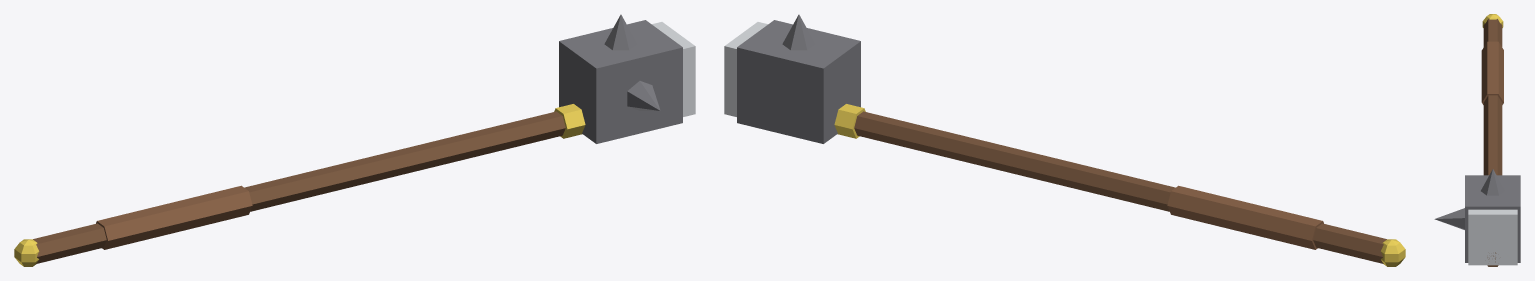
Rendered from long_warhammer.glb.
3 renders of one model, left to right at view 1: azimuth 30°, elevation 25°; view 2: azimuth 150°, elevation 25°; view 3: azimuth 270°, elevation 25°, orthographic. The views are drawn at different scales.
Parts seen in each view (by area): view 1: long_warhammer; view 2: long_warhammer; view 3: long_warhammer.
Boxes of the visible parts, x1,y1,x2,y2 form: long_warhammer: (14, 14, 695, 266); long_warhammer: (724, 14, 1405, 266); long_warhammer: (1434, 14, 1520, 266).
Size of the model in its own units: 0.9 by 0.1403 by 0.1378.
